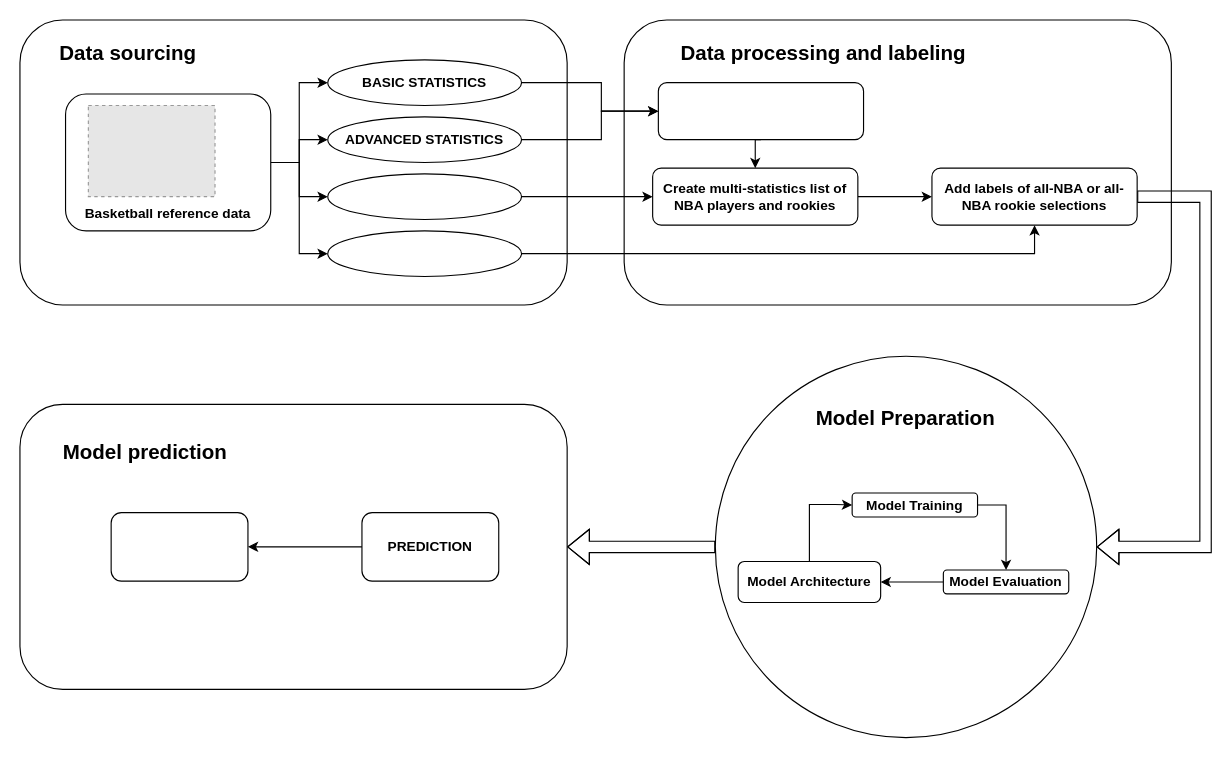
Some shapes in this 1231 by 758 pixel diagram are drawn without their labels. Grey dashed boxes stand in for pictures. Here are the shapes that lost their labels. From the top down, the box of each, then its label:
(657, 82, 864, 140): Connect basic and advanced statistics
(327, 173, 522, 219): TEAMS RESULT IN REG SEASON
(327, 230, 522, 276): RESULTS
(110, 512, 248, 581): SAVING RESULT IN .JSON
